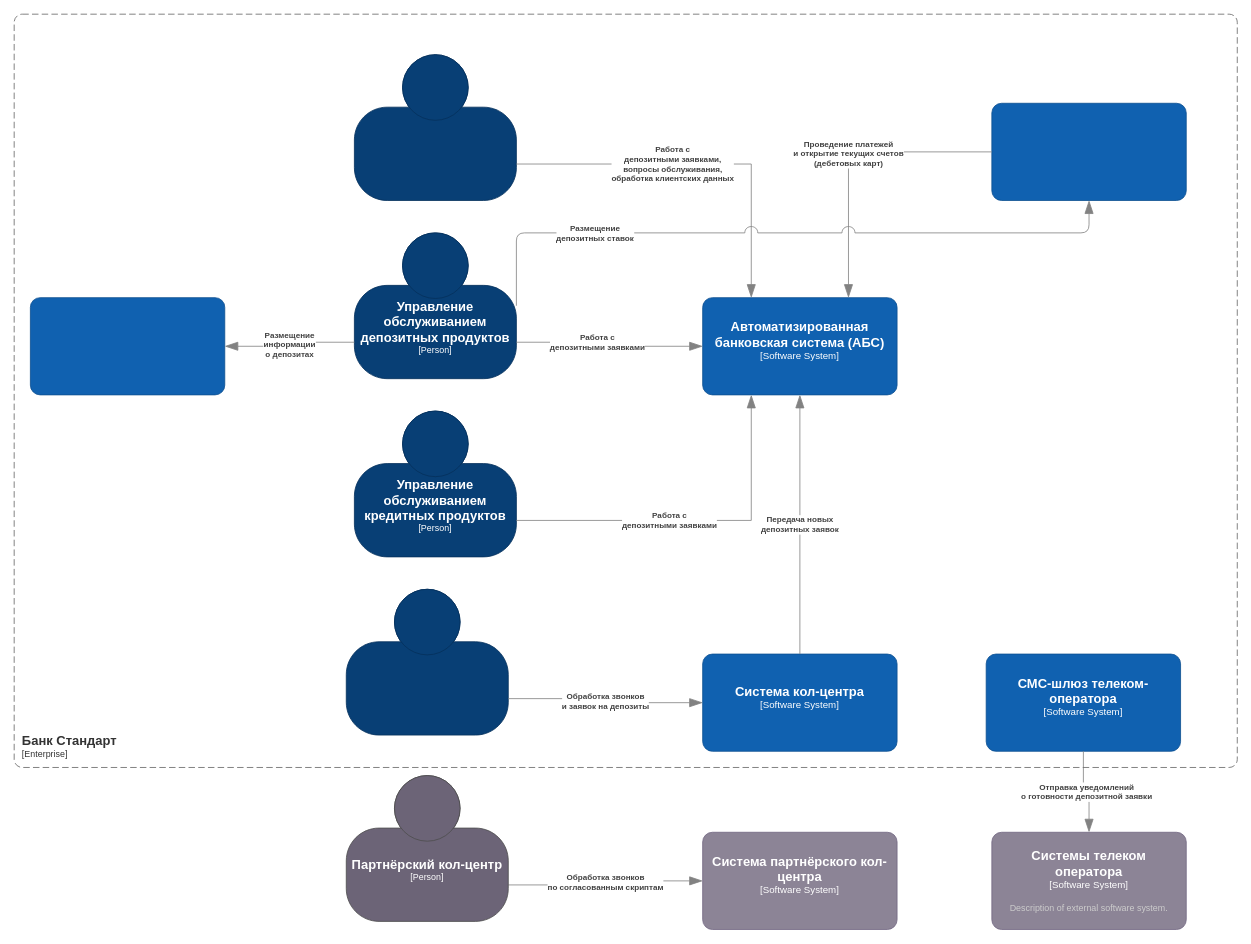
This 1251x944 diagram has some shape labels left out. Here are the shapes that lost their labels. From the top down, the box of each, then its label:
(354, 54, 516, 200): Управление обслуживанием в сети отделений [Person]
(991, 102, 1186, 200): Интернет-банк [Software System]
(30, 297, 225, 395): Сайт [Software System]
(345, 588, 508, 735): Кол-центр банка «Стандарт» [Person]
